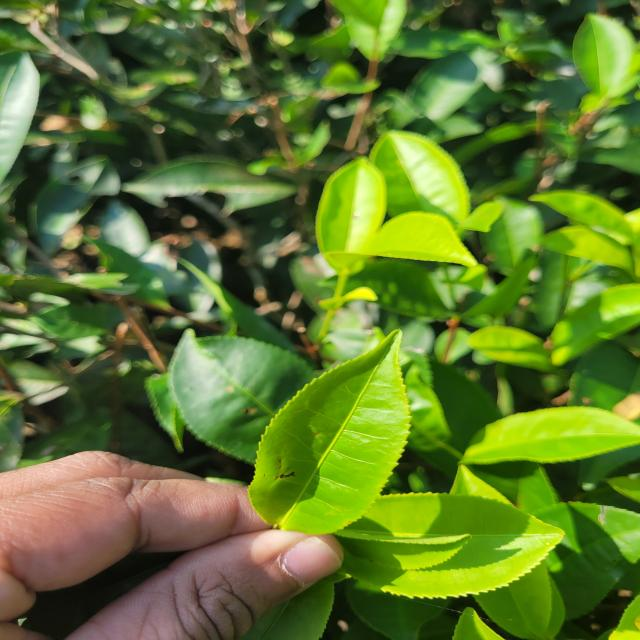Catagory A(1-2 days): (247, 326, 418, 538)
